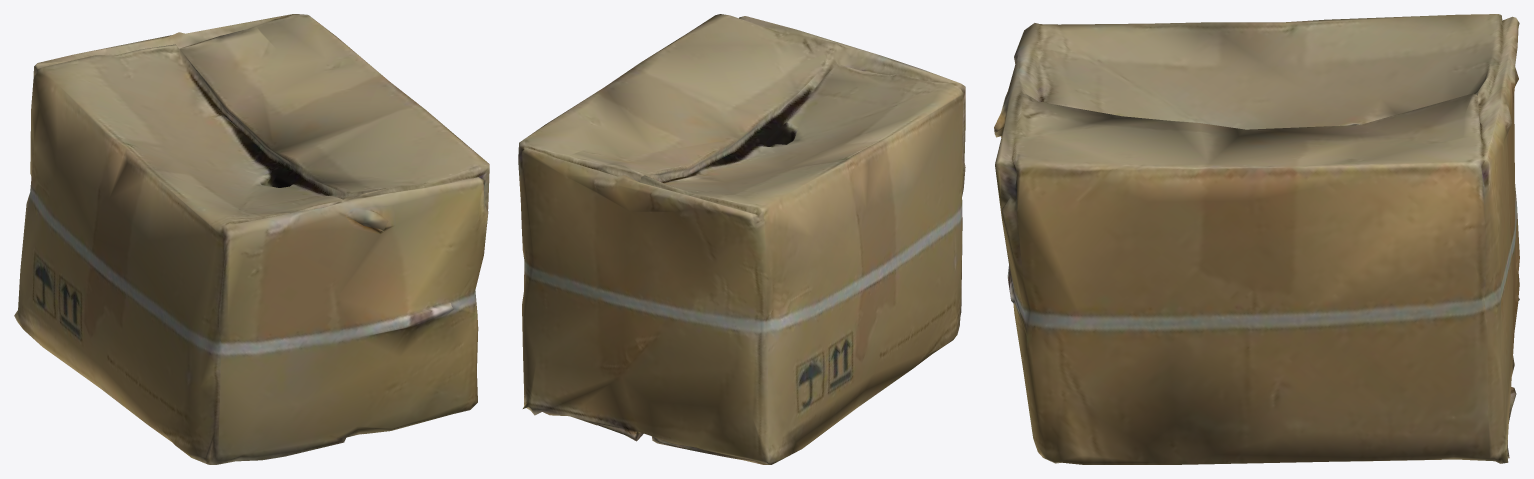
The model's file is cardboard_box_01.glb.
The picture shows the model from 3 angles, left to right: view 1: azimuth 30°, elevation 25°; view 2: azimuth 150°, elevation 25°; view 3: azimuth 270°, elevation 25°; orthographic projection. The views are drawn at different scales.
Visible parts, largest first — view 1: cardboard_box_01; view 2: cardboard_box_01; view 3: cardboard_box_01.
Part boxes in pixels (<box>): cardboard_box_01: <box>14,14,489,464</box>; cardboard_box_01: <box>518,14,965,464</box>; cardboard_box_01: <box>994,14,1519,464</box>.
Size of the model in its own units: 0.3868 by 0.3407 by 0.5159.
1 material, 1 textured.
